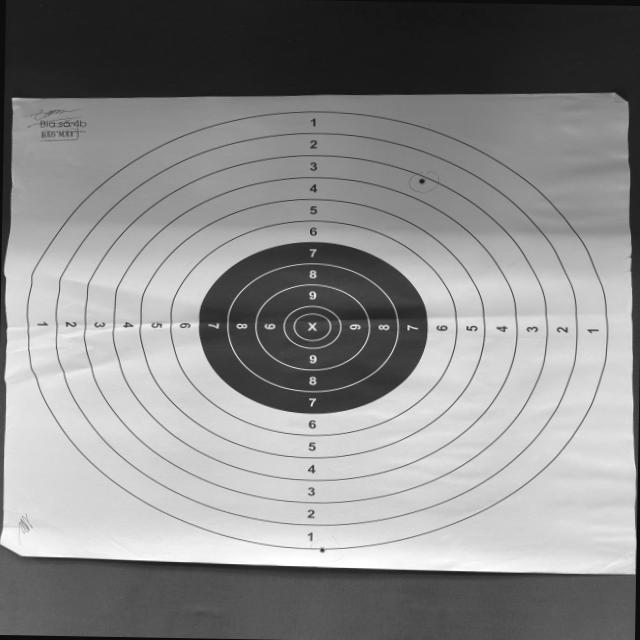bullet: (418, 178, 426, 185)
target: (0, 94, 627, 573)
